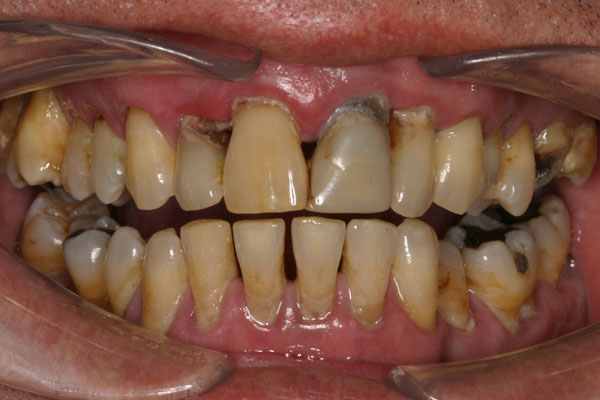LL1BC_decay: (433, 244, 473, 336)
LL1M_decay: (520, 198, 574, 283)
LL2BC_decay: (457, 220, 538, 317)
LLCI_healthy: (290, 216, 342, 320)
LLC_healthy: (392, 220, 440, 336)
LLLI_healthy: (346, 219, 395, 329)
LR1BC_healthy: (107, 225, 143, 312)
LR1M_decay: (20, 195, 67, 265)
LR2BC_decay: (59, 216, 114, 303)
LRCI_healthy: (233, 218, 290, 330)
LRC_healthy: (139, 227, 186, 331)
LRLI_healthy: (183, 219, 237, 329)
UL1BC_decay: (484, 124, 503, 185)
UL1M_decay: (533, 120, 570, 191)
UL2BC_decay: (499, 128, 535, 216)
UL2M_decay: (570, 119, 596, 187)
ULCI_decay: (306, 111, 392, 215)
ULC_decay: (435, 116, 487, 216)
ULLI_decay: (387, 105, 438, 221)
UR1BC_decay: (90, 119, 126, 203)
UR1M_decay: (12, 93, 68, 188)
UR2BC_decay: (59, 117, 95, 200)
URCI_healthy: (224, 108, 308, 211)
URC_healthy: (122, 107, 175, 213)
URLI_decay: (173, 115, 224, 209)
